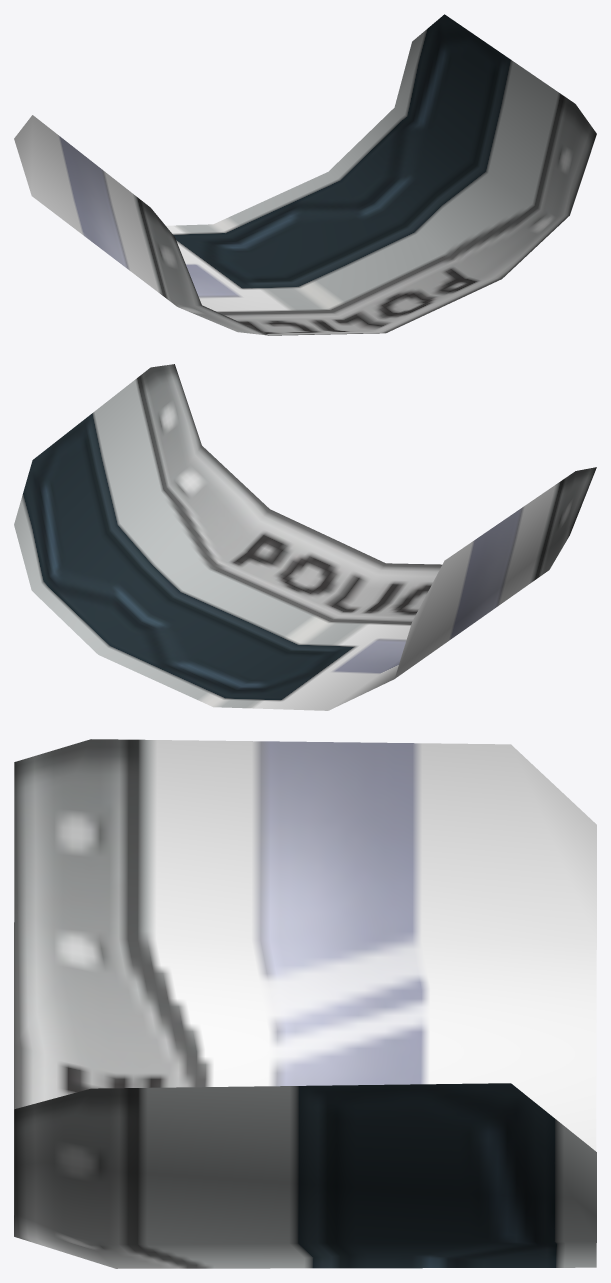
The model's file is Swat02_High_dc7adfe8__Avatar_Swat_C_02_acc93a74_c1f257.obj.
3 renders of one model, top to bottom at view 1: azimuth 30°, elevation 25°; view 2: azimuth 150°, elevation 25°; view 3: azimuth 270°, elevation 25°, orthographic. The views are drawn at different scales.
Bounding box in the file's own units: 0.7979 × 0.3204 × 0.5626.
Materials: 1 (1 with a texture image).
